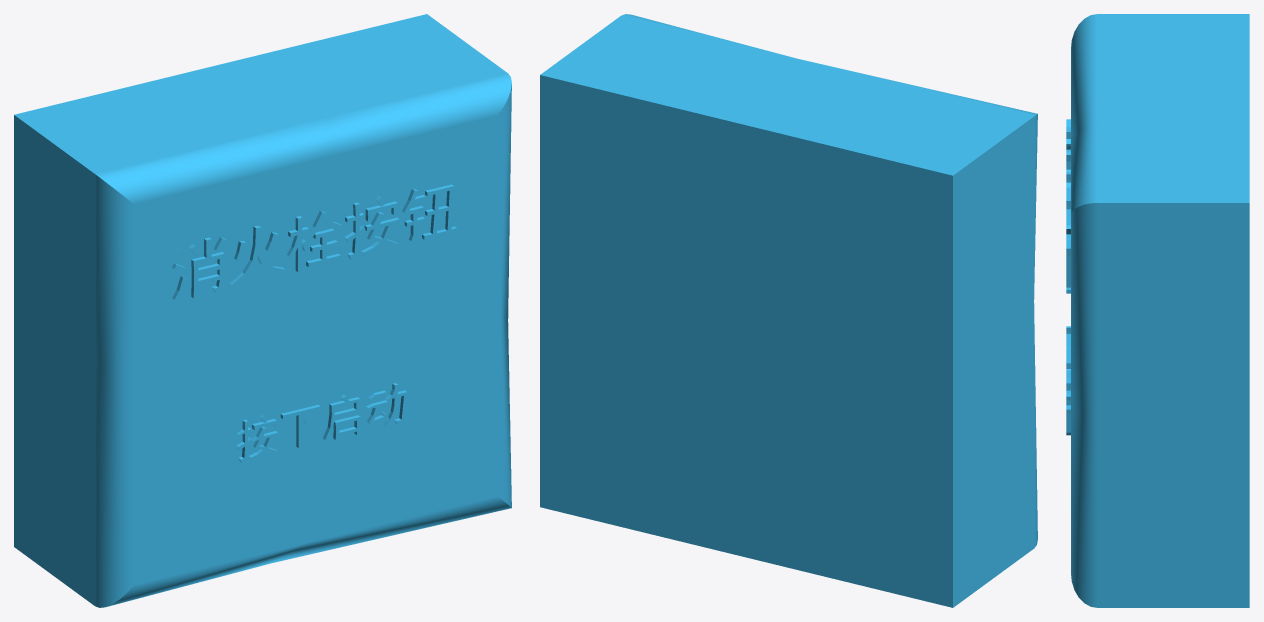
3 renders of one model, left to right at view 1: azimuth 30°, elevation 25°; view 2: azimuth 150°, elevation 25°; view 3: azimuth 270°, elevation 25°, orthographic. The views are drawn at different scales.
Bounding box in the file's own units: 220 × 220 × 90.2.
